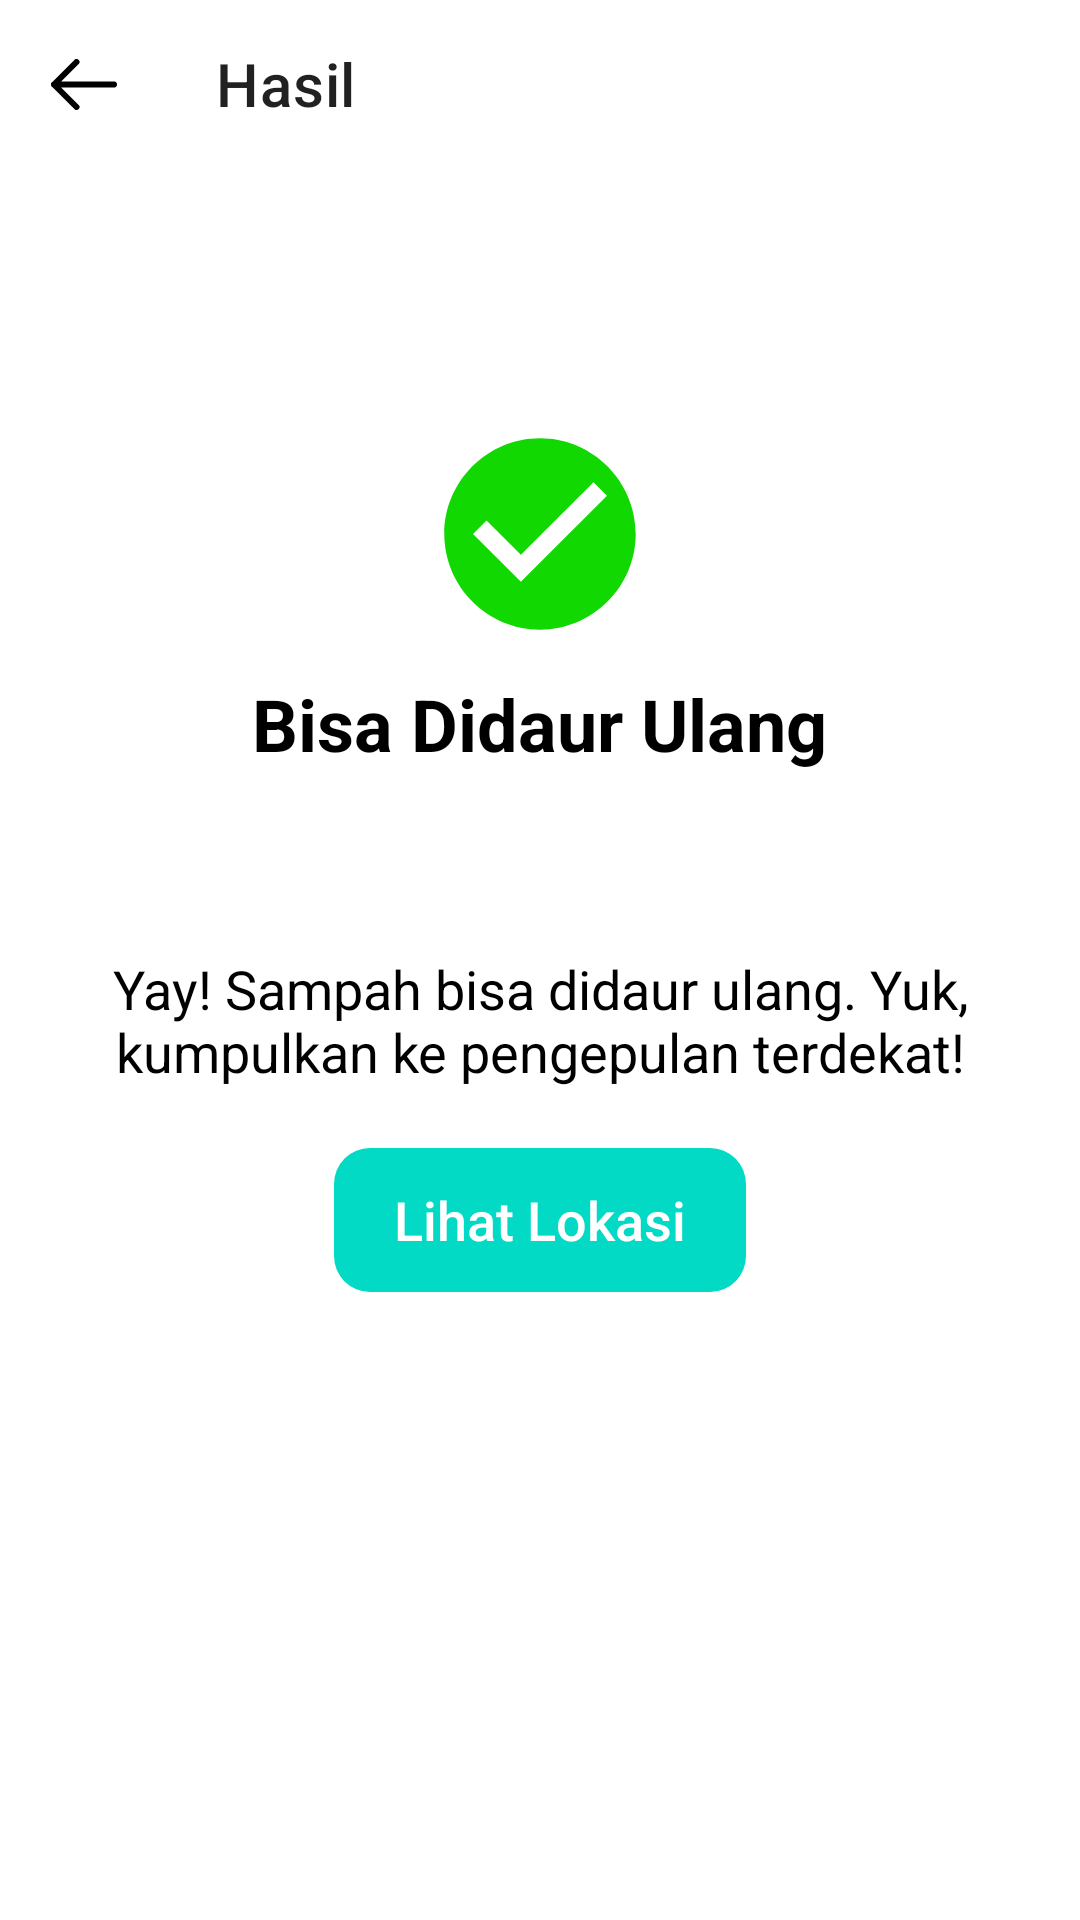

Where to tap for icons on this 1080x1920 app screen, as (x=x, y=y):
centang: (x=540, y=534)
